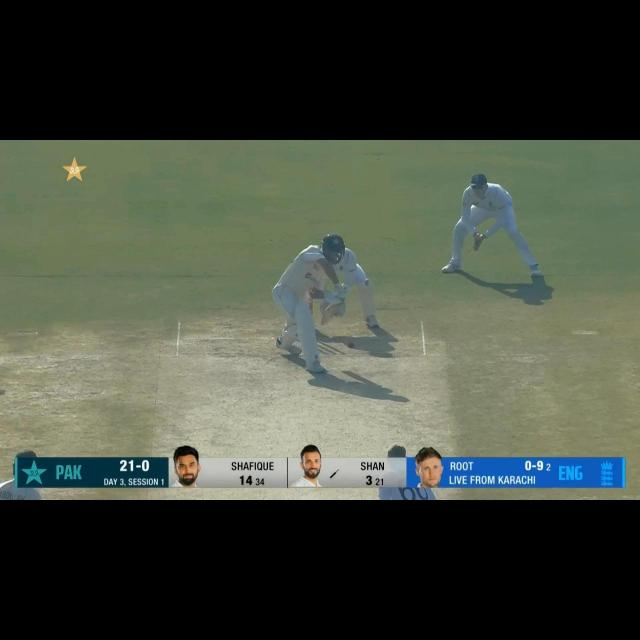bat: (321, 304, 336, 326)
toe: (321, 312, 331, 326)
